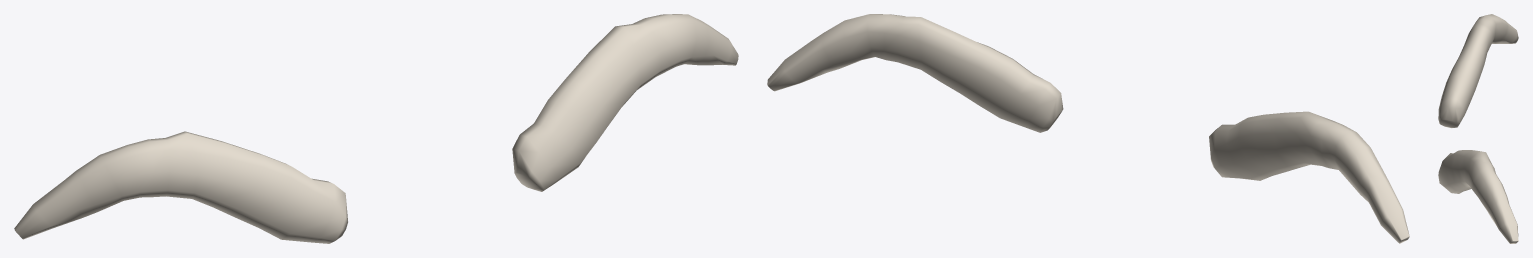
The model's file is Eyebrows_19_07.fbx.
3 views of the same model, side by side, from view 1: azimuth 30°, elevation 25°; view 2: azimuth 150°, elevation 25°; view 3: azimuth 270°, elevation 25° (orthographic). The views are drawn at different scales.
Parts seen in each view (by area): view 1: Eyebrows_19_07; view 2: Eyebrows_19_07; view 3: Eyebrows_19_07.
Part boxes in pixels (box(x1,y1,x2,y2)): Eyebrows_19_07: box(14, 14, 738, 243); Eyebrows_19_07: box(767, 14, 1409, 243); Eyebrows_19_07: box(1438, 14, 1518, 243).
Bounding box in the file's own units: 18.29 × 2.86 × 3.02.
